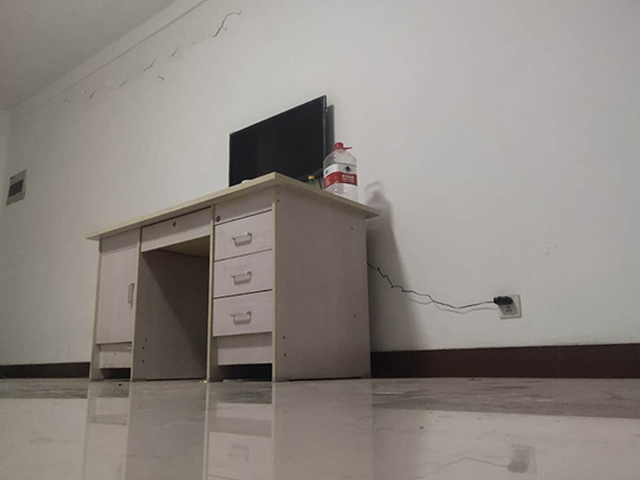table: (84, 169, 383, 383)
wire: (369, 261, 521, 319)
